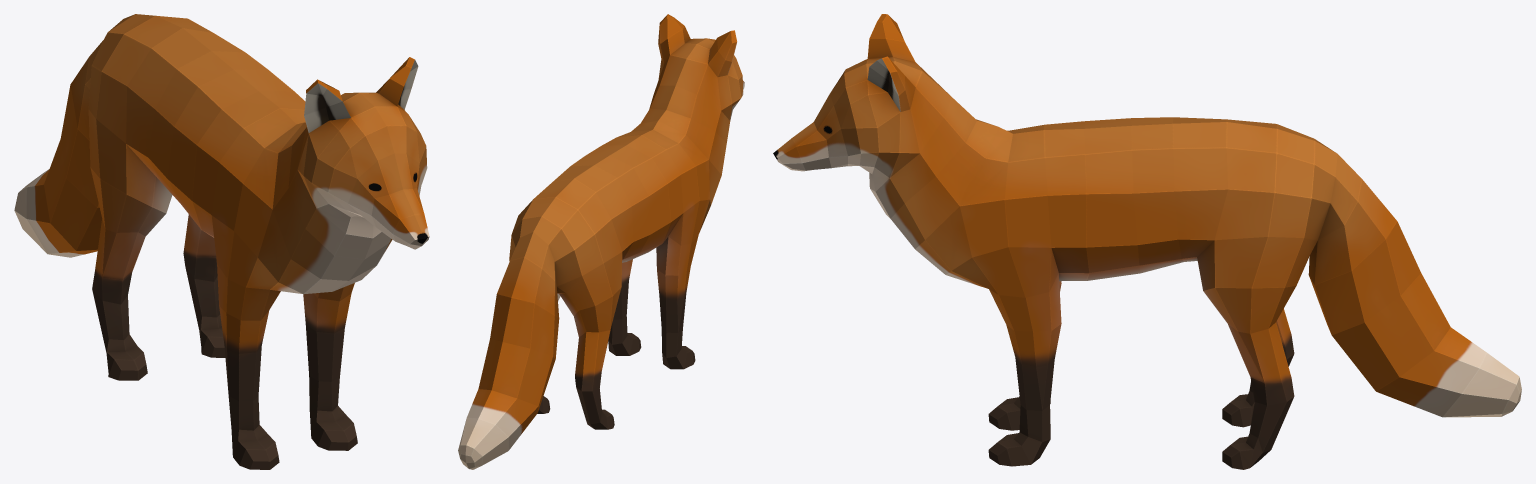
File: Fox.gltf
3 views of the same model, side by side, from view 1: azimuth 30°, elevation 25°; view 2: azimuth 150°, elevation 25°; view 3: azimuth 270°, elevation 25° (orthographic). The views are drawn at different scales.
Visible parts, largest first — view 1: Fox_Mesh; view 2: Fox_Mesh; view 3: Fox_Mesh.
Boxes of the visible parts, x1,y1,x2,y2 form: Fox_Mesh: [14, 14, 429, 469]; Fox_Mesh: [458, 14, 744, 469]; Fox_Mesh: [773, 14, 1521, 469].
Bounding box in the file's own units: 1.28 × 3.84 × 6.44.
1 material, 1 textured.
